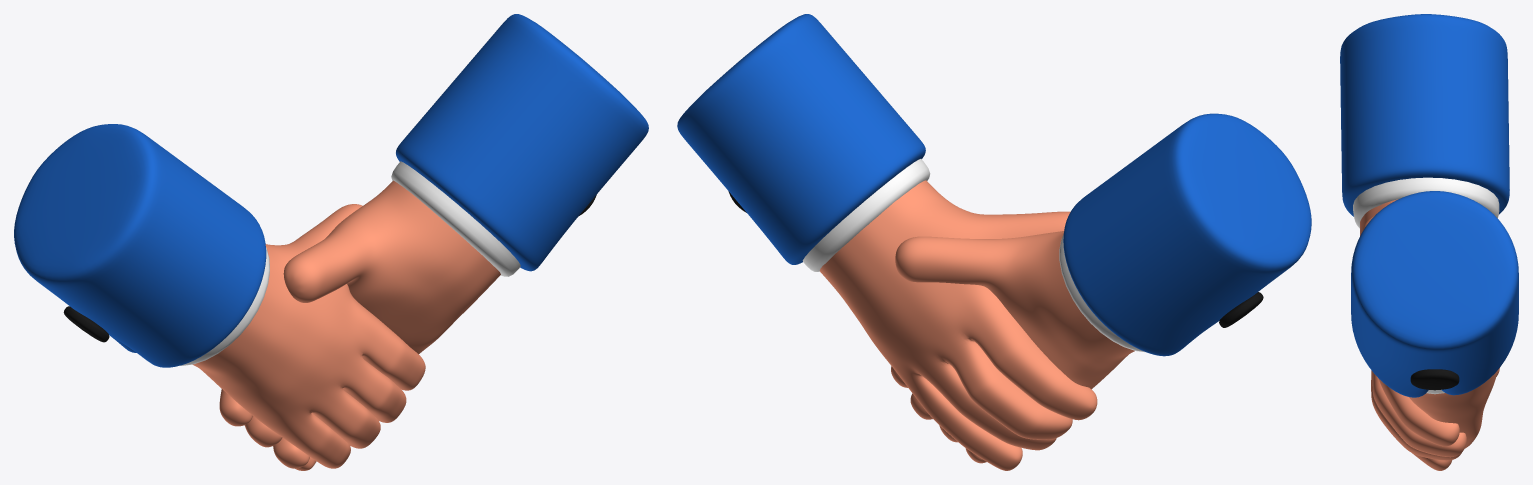
The picture shows the model from 3 angles, left to right: view 1: azimuth 30°, elevation 25°; view 2: azimuth 150°, elevation 25°; view 3: azimuth 270°, elevation 25°; orthographic projection. The views are drawn at different scales.
Parts seen in each view (by area): view 1: Cylinder.009, Handshake, Cube.002, Cube.001, Cylinder.006, Cylinder.007, Cylinder.008; view 2: Cylinder.009, Cube.001, Handshake, Cube.002, Cylinder.006, Cylinder.007; view 3: Handshake, Cylinder.009, Cube.002, Cylinder.007, Cube.001, Cylinder.005.
Boxes of the visible parts, left/top/right/bottom form: Cylinder.009: left=14, top=124, right=266, bottom=367; Handshake: left=396, top=14, right=648, bottom=271; Cube.002: left=193, top=204, right=425, bottom=468; Cube.001: left=219, top=180, right=500, bottom=470; Cylinder.006: left=391, top=161, right=520, bottom=276; Cylinder.007: left=180, top=247, right=269, bottom=365; Cylinder.008: left=63, top=306, right=109, bottom=342; Cylinder.009: left=1063, top=113, right=1311, bottom=356; Cube.001: left=820, top=180, right=1097, bottom=470; Handshake: left=677, top=14, right=925, bottom=264; Cube.002: left=891, top=231, right=1134, bottom=463; Cylinder.006: left=802, top=159, right=930, bottom=271; Cylinder.007: left=1059, top=235, right=1145, bottom=352; Handshake: left=1351, top=191, right=1518, bottom=397; Cylinder.009: left=1340, top=14, right=1509, bottom=216; Cube.002: left=1360, top=199, right=1466, bottom=470; Cylinder.007: left=1353, top=177, right=1499, bottom=228; Cube.001: left=1363, top=216, right=1499, bottom=448; Cylinder.005: left=1410, top=369, right=1459, bottom=390.
Bounding box in the file's own units: 3.57 × 2.23 × 0.989.
